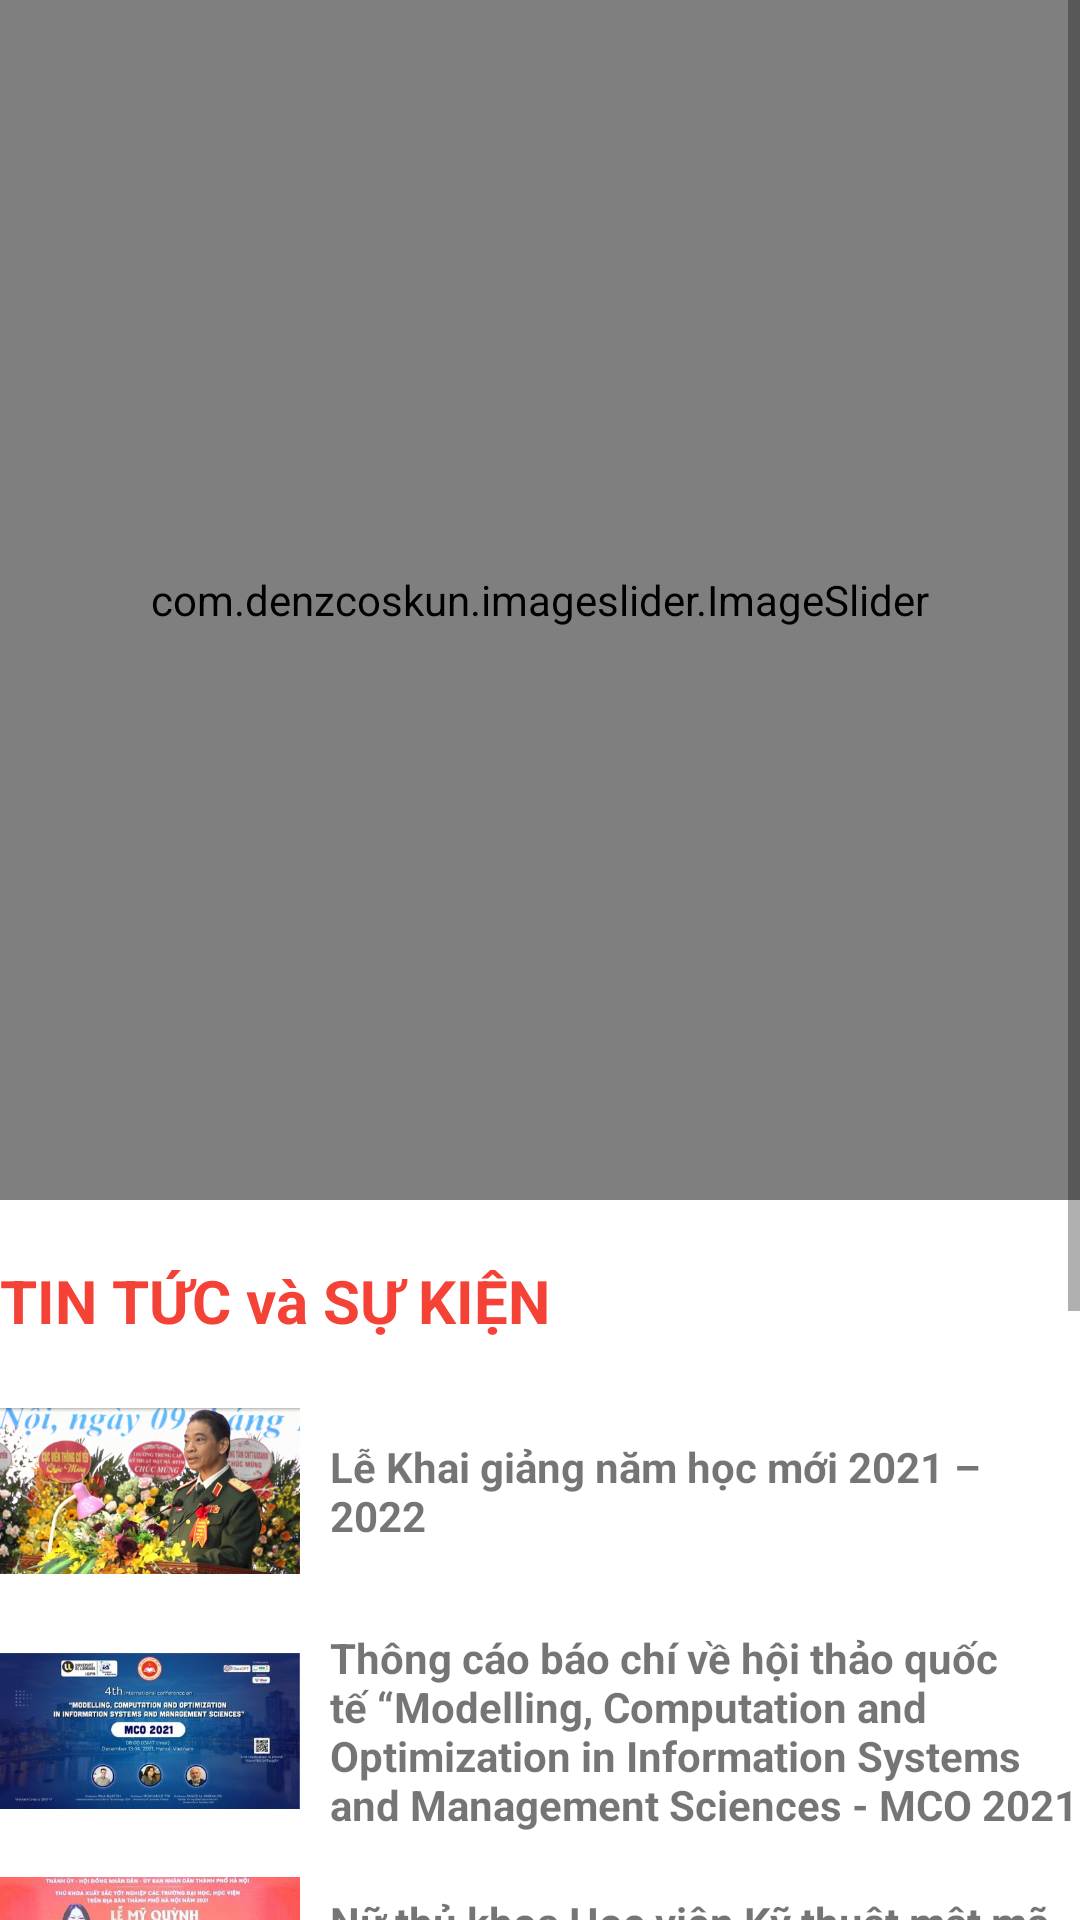

Screen size 1080 x 1920. Icon name, then its center in pixels as [x,y]:
khaigiang: [150,1491]
